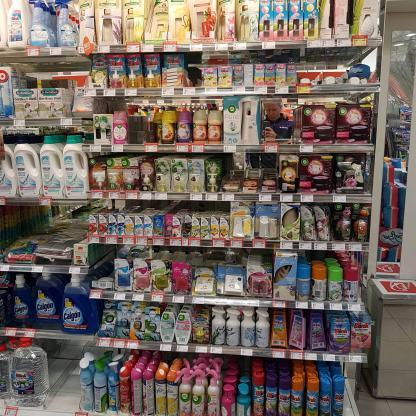Void: (15, 206, 86, 238), (49, 339, 78, 405), (24, 68, 85, 89), (130, 99, 144, 143), (229, 155, 242, 174)
